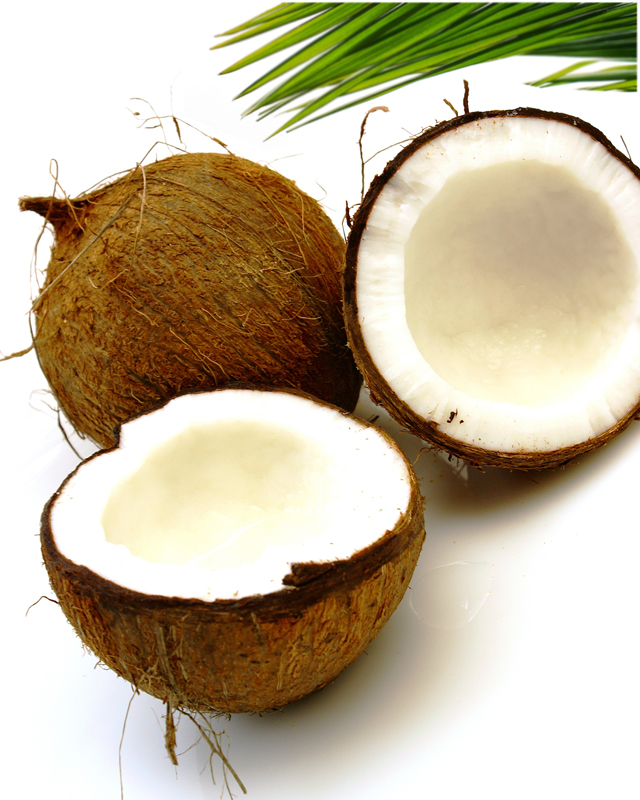coconut: (43, 393, 428, 727), (351, 103, 634, 505), (19, 152, 352, 387)
